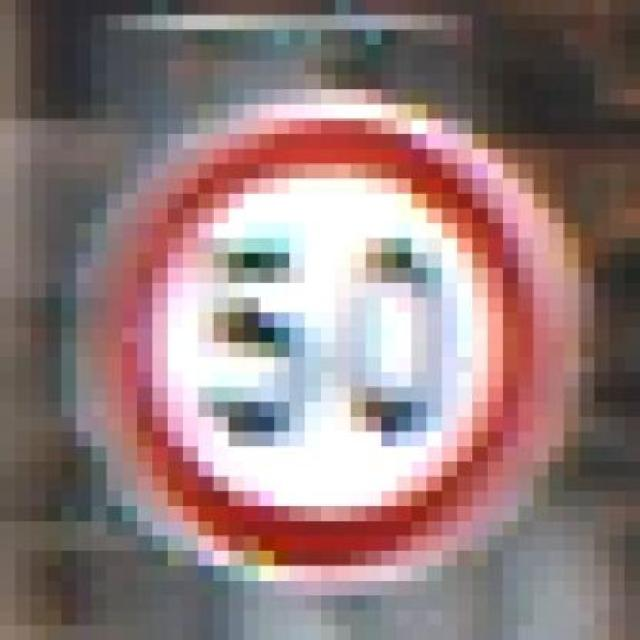forb_speed_over_50: (98, 113, 553, 572)
